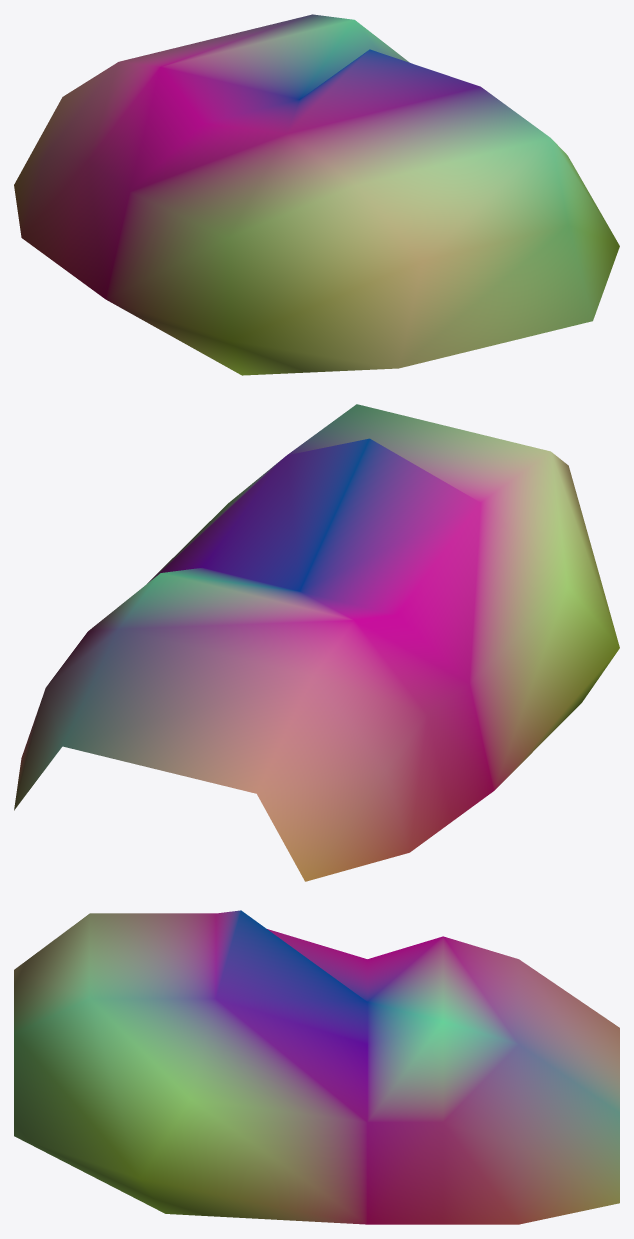
The picture shows the model from 3 angles, top to bottom: view 1: azimuth 30°, elevation 25°; view 2: azimuth 150°, elevation 25°; view 3: azimuth 270°, elevation 25°; orthographic projection. The views are drawn at different scales.
Visible parts, largest first — view 1: part; view 2: part; view 3: part.
Part boxes in pixels (bbox=[...]): part: bbox=[14, 14, 619, 375]; part: bbox=[14, 404, 619, 881]; part: bbox=[14, 910, 619, 1224].
Bounding box in the file's own units: 16 × 10 × 24.
